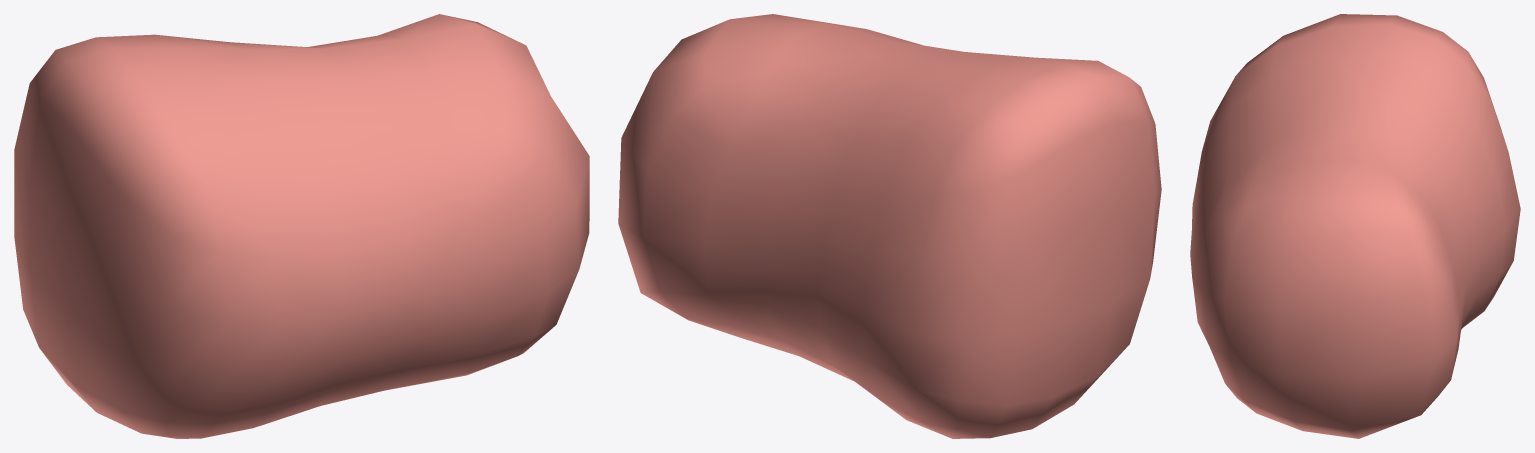
File: mixamo_humanoid_surface_leftHandPinky1.fbx
The picture shows the model from 3 angles, left to right: view 1: azimuth 30°, elevation 25°; view 2: azimuth 150°, elevation 25°; view 3: azimuth 270°, elevation 25°; orthographic projection. The views are drawn at different scales.
Visible parts, largest first — view 1: surface_LeftHandPinky1; view 2: surface_LeftHandPinky1; view 3: surface_LeftHandPinky1.
Boxes of the visible parts, bbox=[...] form: surface_LeftHandPinky1: bbox=[14, 14, 589, 438]; surface_LeftHandPinky1: bbox=[618, 14, 1161, 438]; surface_LeftHandPinky1: bbox=[1190, 14, 1520, 438].
Size of the model in its own units: 3 by 2.1 by 2.17.
